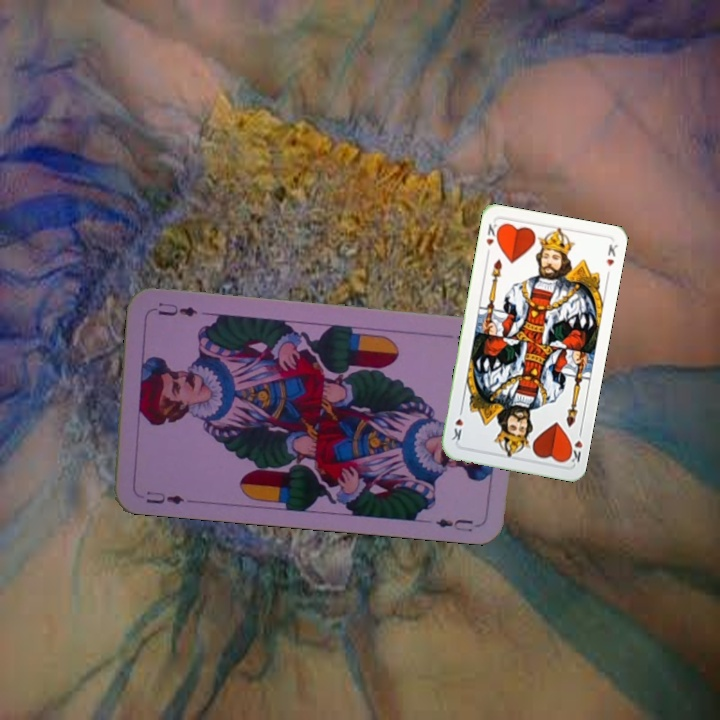EU: (142, 487, 187, 507)
HK: (563, 426, 585, 465), (482, 220, 503, 259)
